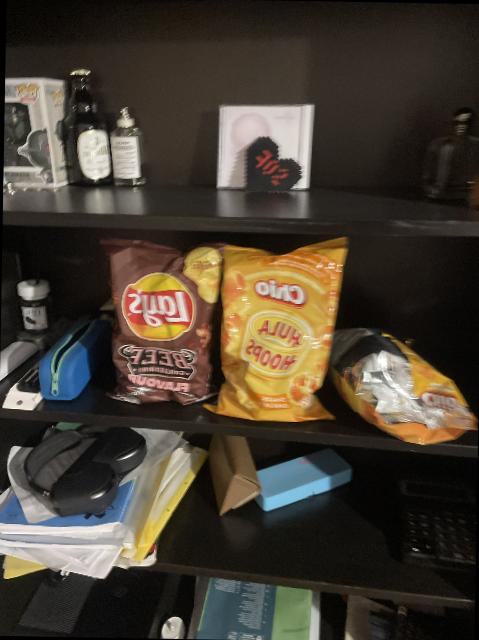Chio Cascaval 125g: (325, 324, 479, 443)
Chio Hula Hoops Cheese 70g: (200, 238, 348, 420)
Lays Beef Grilled Ribs 125g: (95, 236, 220, 402)
